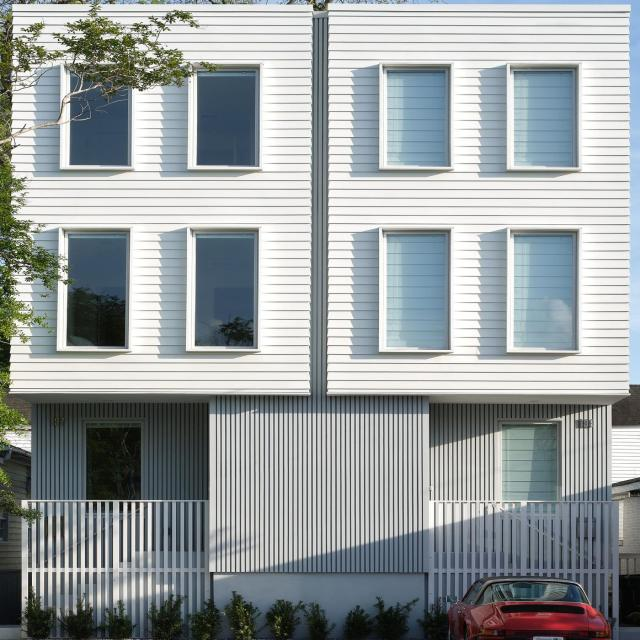Railing: (21, 498, 205, 637), (428, 498, 620, 612)
plant: (0, 2, 221, 344), (27, 593, 453, 636)
wall: (10, 2, 632, 640)
windows: (386, 230, 449, 344), (513, 235, 573, 347), (69, 232, 127, 345), (197, 234, 256, 343), (198, 71, 258, 166), (516, 72, 576, 167), (70, 69, 130, 163), (384, 69, 444, 163), (496, 420, 561, 500), (85, 420, 148, 500)
